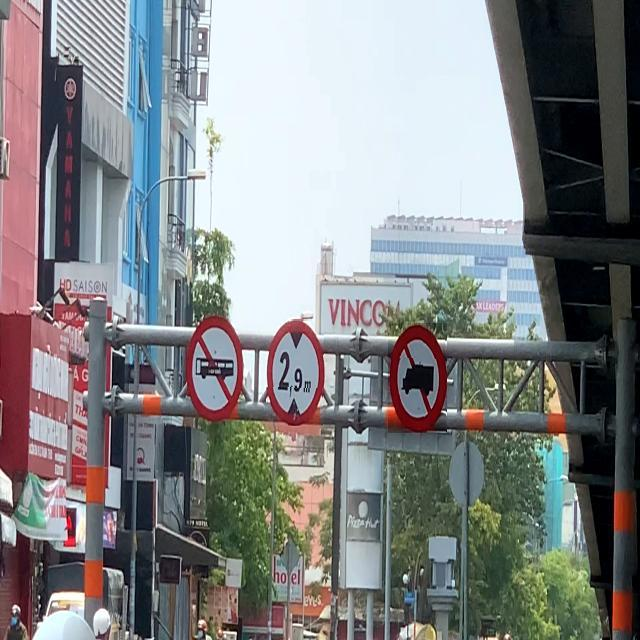P-106a: (388, 323, 447, 433)
P-117: (267, 319, 325, 426)
